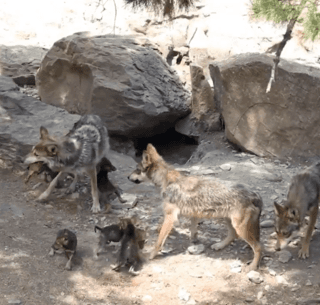Lobo: (132, 143, 272, 268), (23, 109, 108, 213), (272, 160, 314, 264)
